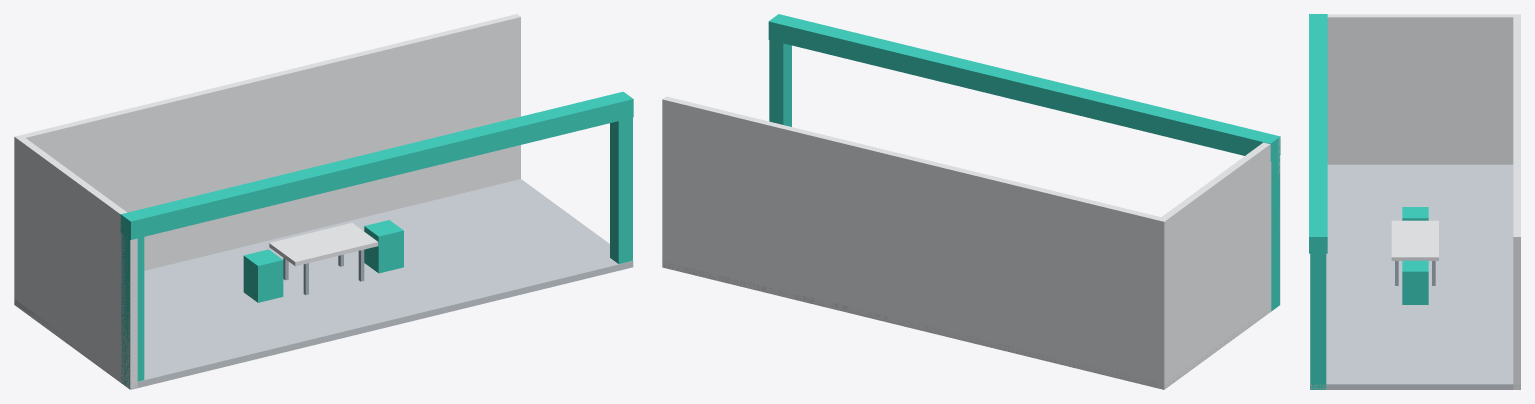
3 renders of one model, left to right at view 1: azimuth 30°, elevation 25°; view 2: azimuth 150°, elevation 25°; view 3: azimuth 270°, elevation 25°, orthographic. The views are drawn at different scales.
Visible parts, largest first — view 1: Exhibition Booth Concept; view 2: Exhibition Booth Concept; view 3: Exhibition Booth Concept.
Part boxes in pixels (bbox=[...]): Exhibition Booth Concept: bbox=[14, 14, 633, 389]; Exhibition Booth Concept: bbox=[662, 14, 1280, 389]; Exhibition Booth Concept: bbox=[1309, 14, 1520, 389].
Bounding box in the file's own units: 10 × 3.2 × 4.02.
